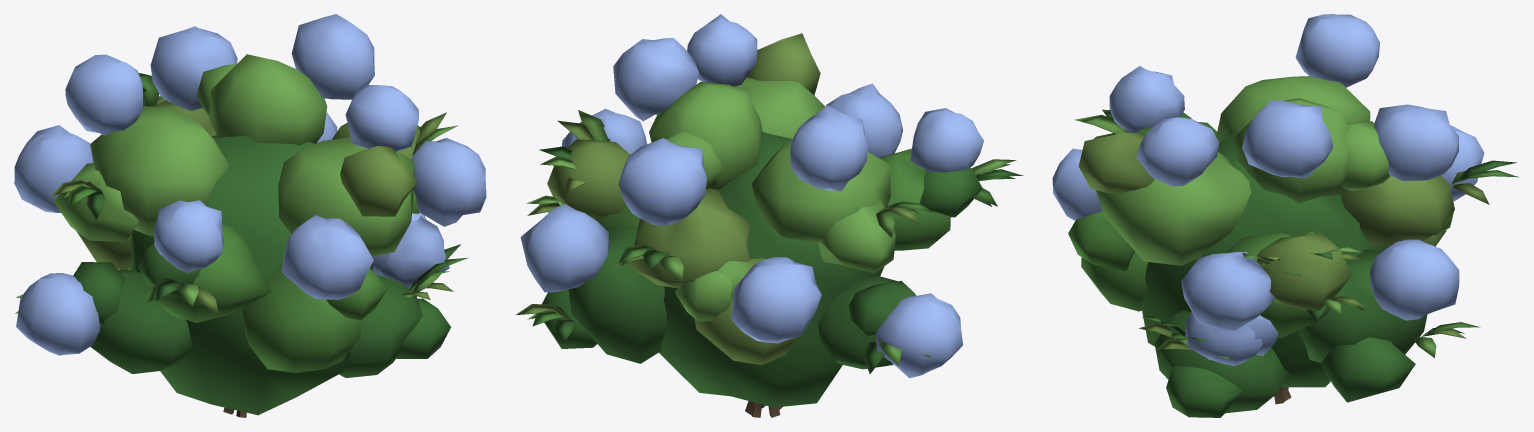
The model's file is hydrangea.glb.
3 views of the same model, side by side, from view 1: azimuth 30°, elevation 25°; view 2: azimuth 150°, elevation 25°; view 3: azimuth 270°, elevation 25° (orthographic). The views are drawn at different scales.
Parts seen in each view (by area): view 1: hydrangea; view 2: hydrangea; view 3: hydrangea.
Boxes of the visible parts, x1=… form: hydrangea: x1=14, y1=14, x2=486, y2=417; hydrangea: x1=515, y1=14, x2=1023, y2=417; hydrangea: x1=1052, y1=14, x2=1518, y2=417.
Bounding box in the file's own units: 1.2 × 0.957 × 1.18.
